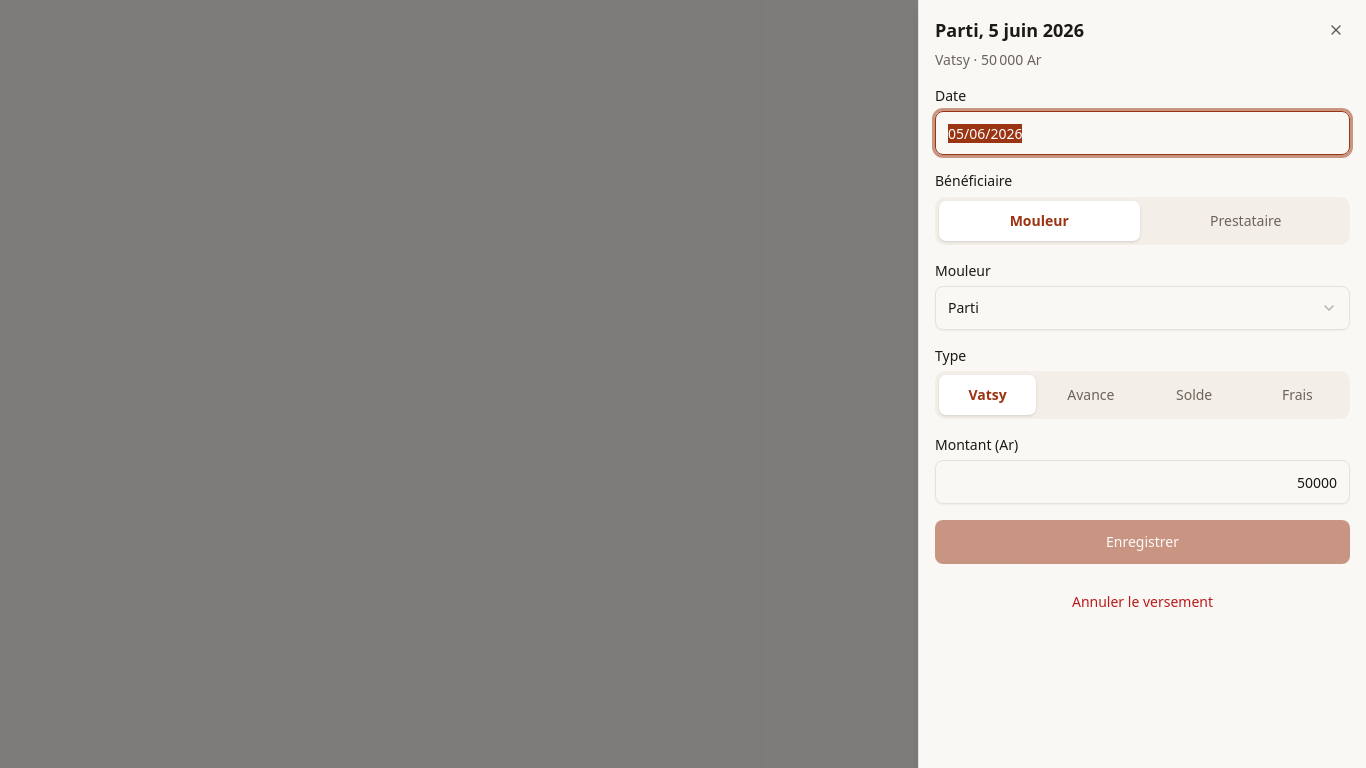
it: PaymentPage › turns a payment to a moulder into one to a named contractor
Expected: the heading "Parti, 5 juin 2026" is shown, [935,18,1084,42]
Click the dropdown named "Mouleur" at coordinates (963, 307), box [935,286,1350,330]
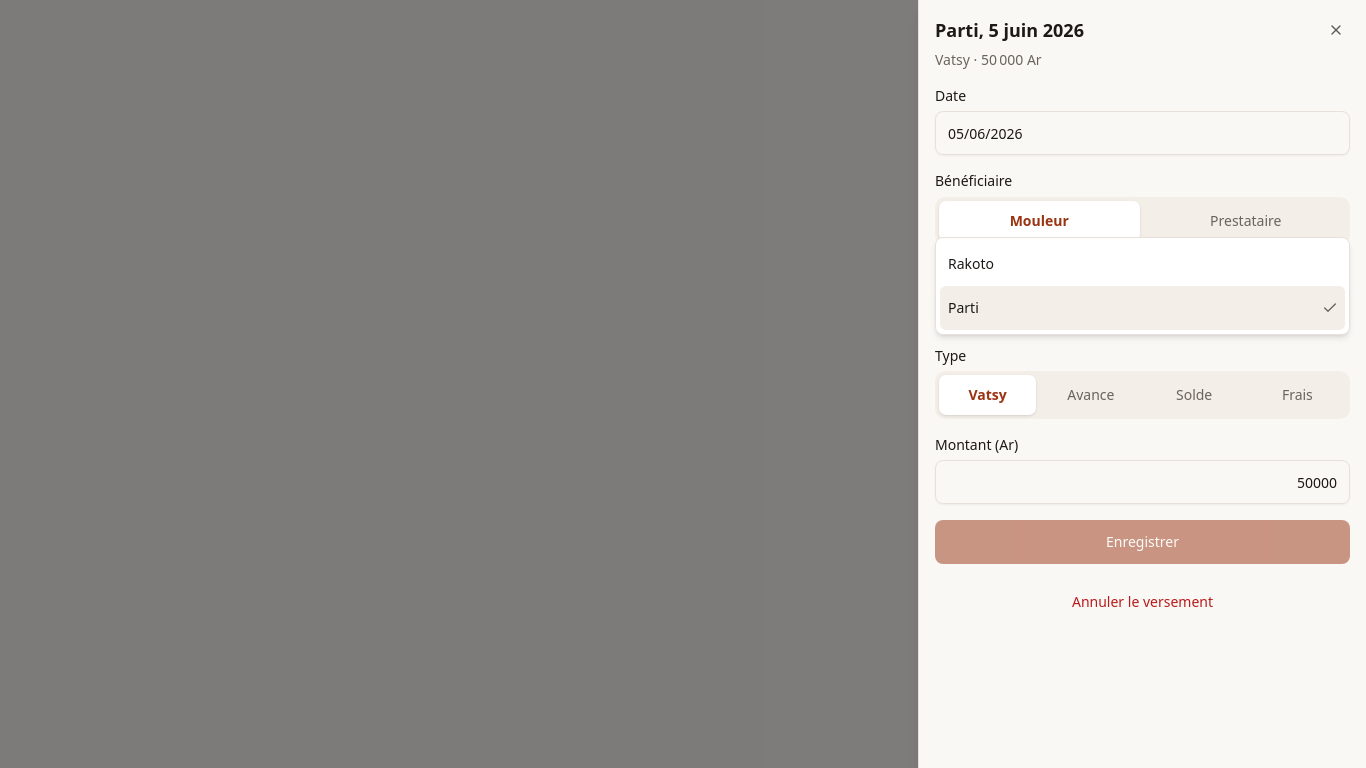
Now the option "Parti" is shown
Click the option "Parti" at coordinates (963, 307), box [940,286,1345,330]
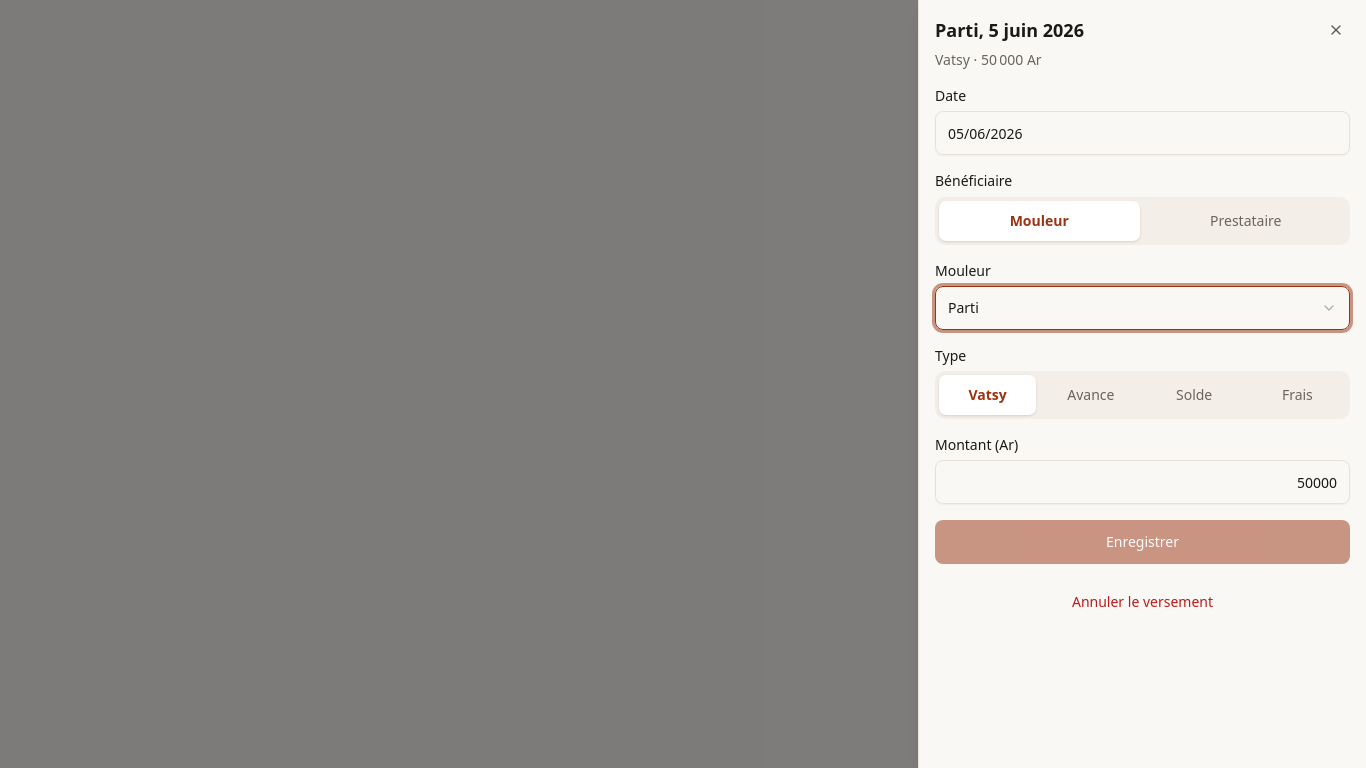
Click the radio button labelled "Prestataire" at coordinates (1246, 220), box [1146,200,1346,240]
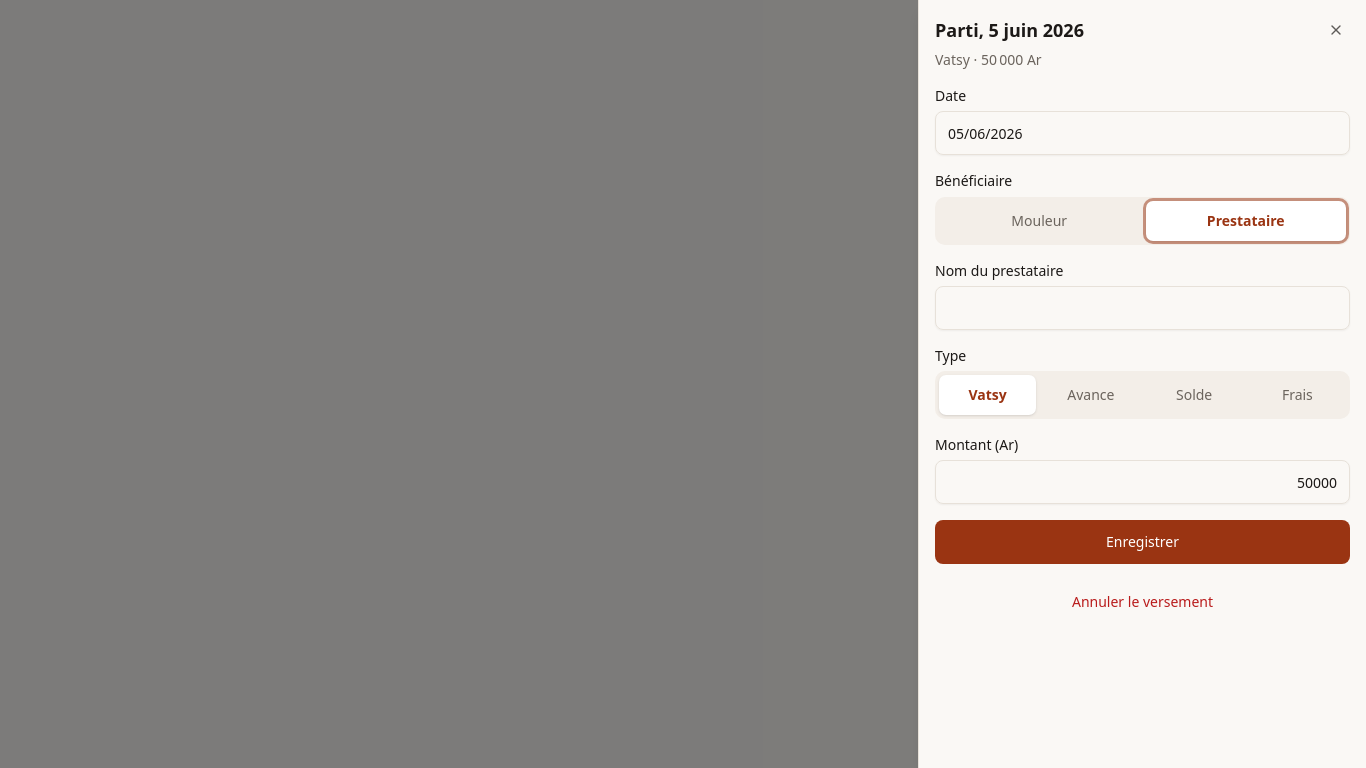
Type "Solo" into the field labelled "Nom du prestataire" at coordinates (1142, 308), box [935,286,1350,330]
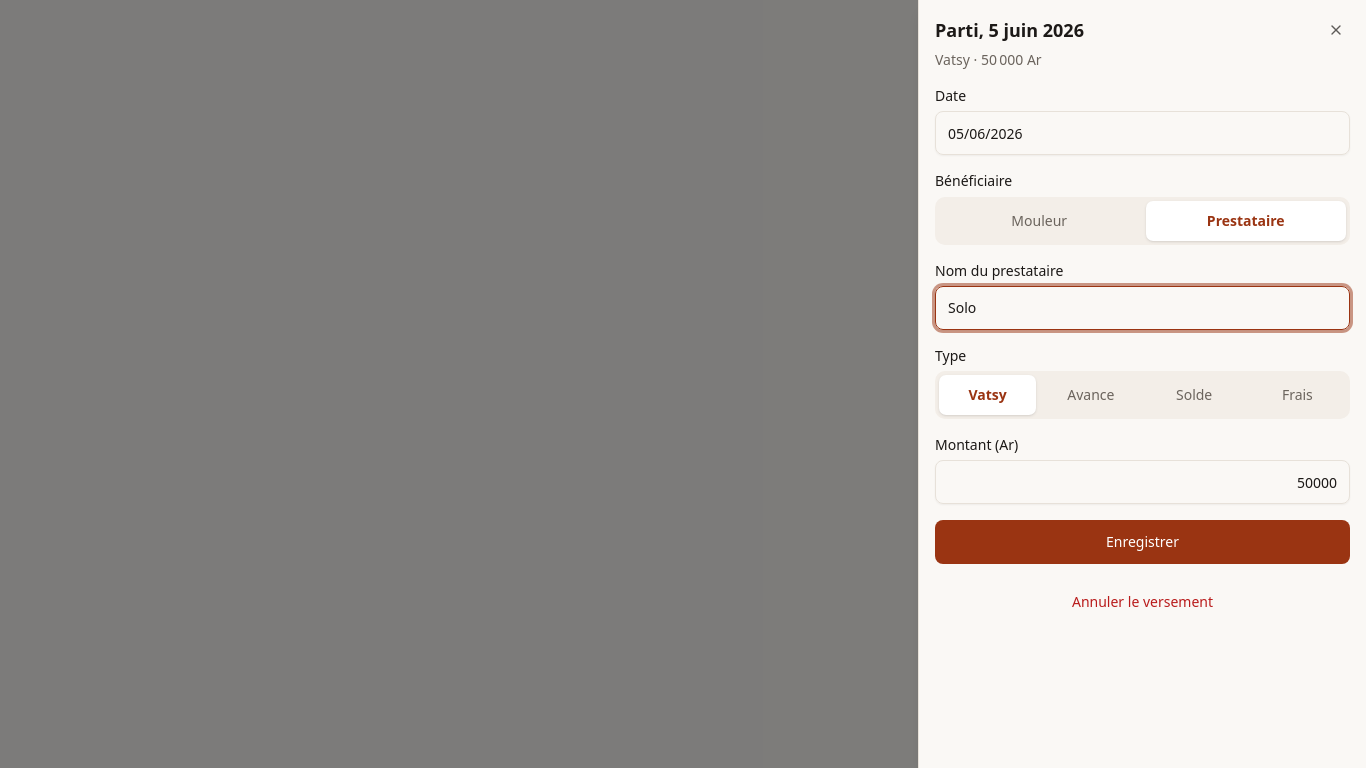
Click the radio button labelled "Solde" at coordinates (1194, 395), box [1146,375,1243,415]
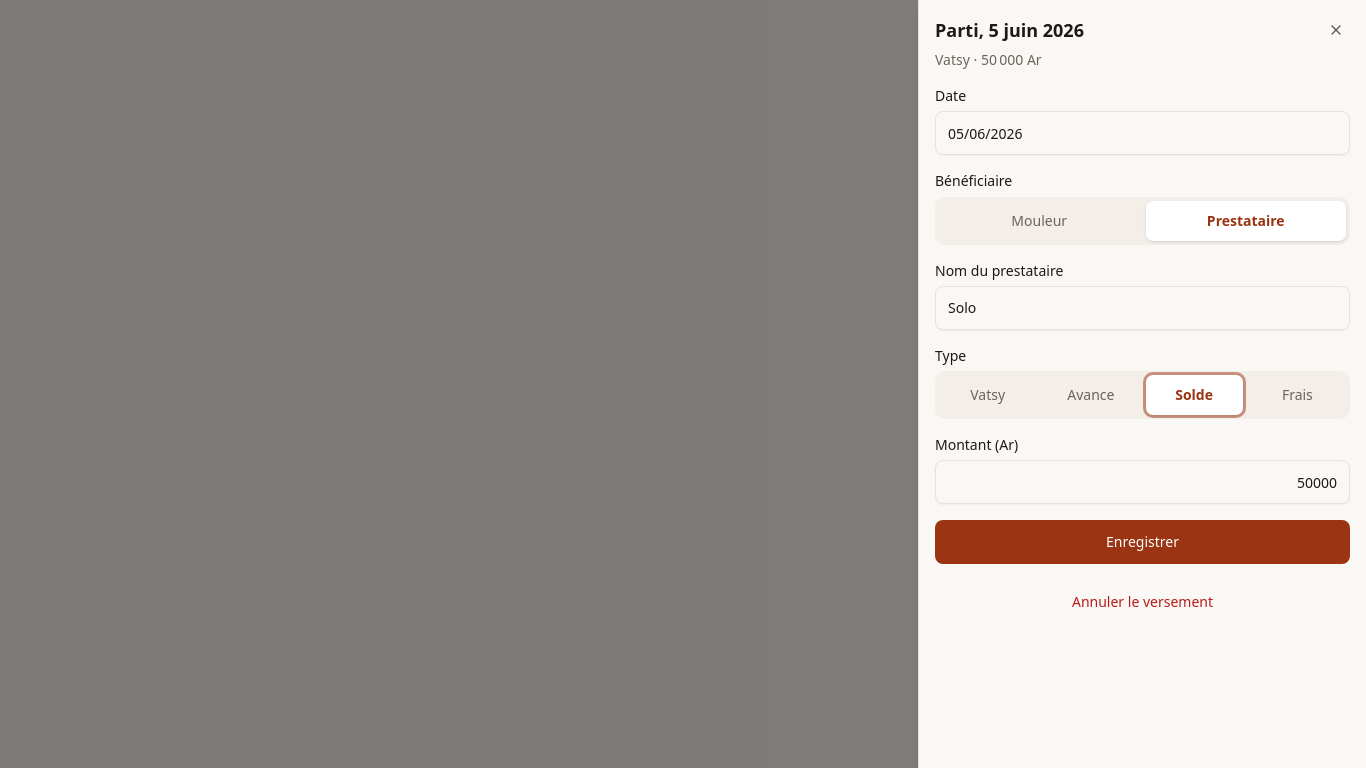
Click the button "Enregistrer" at coordinates (1142, 542), box [935,520,1350,564]
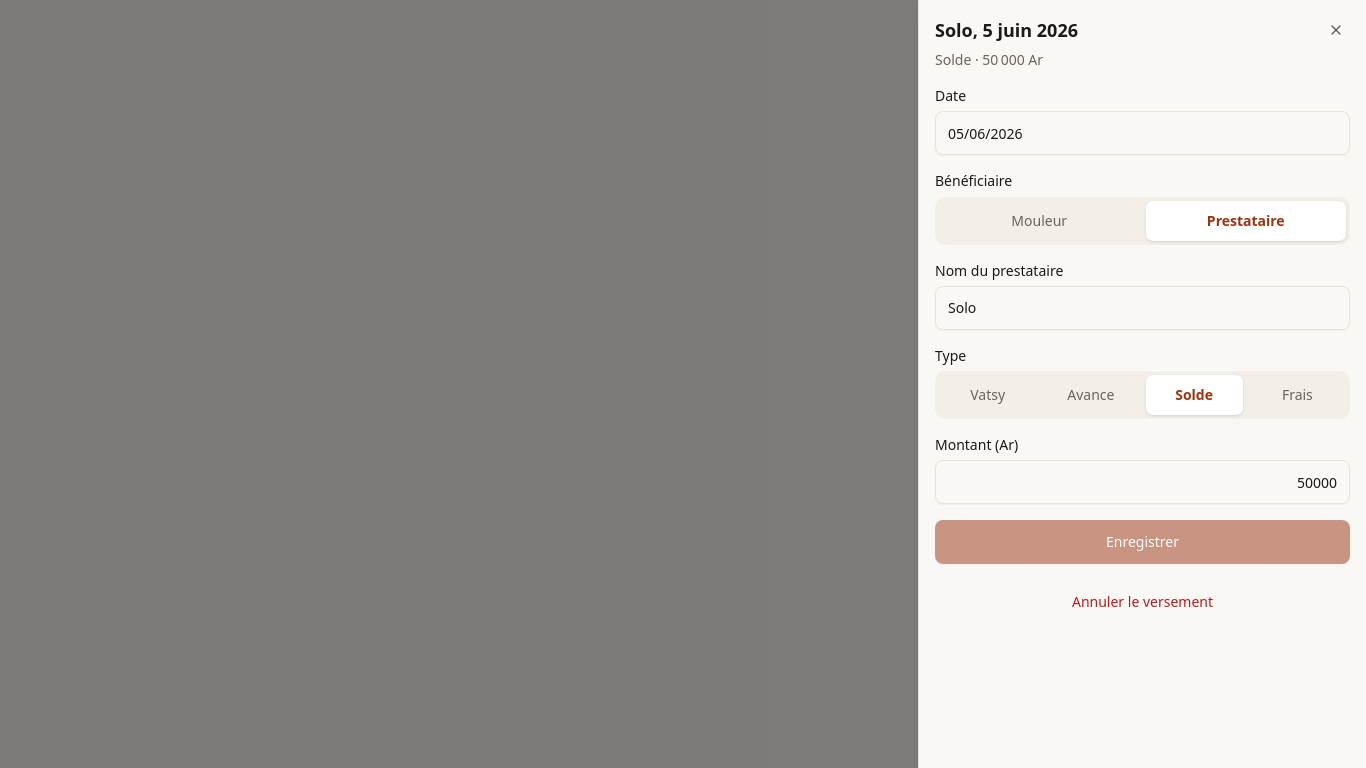
Now the heading "Solo, 5 juin 2026" is shown, box [935,18,1078,42]
